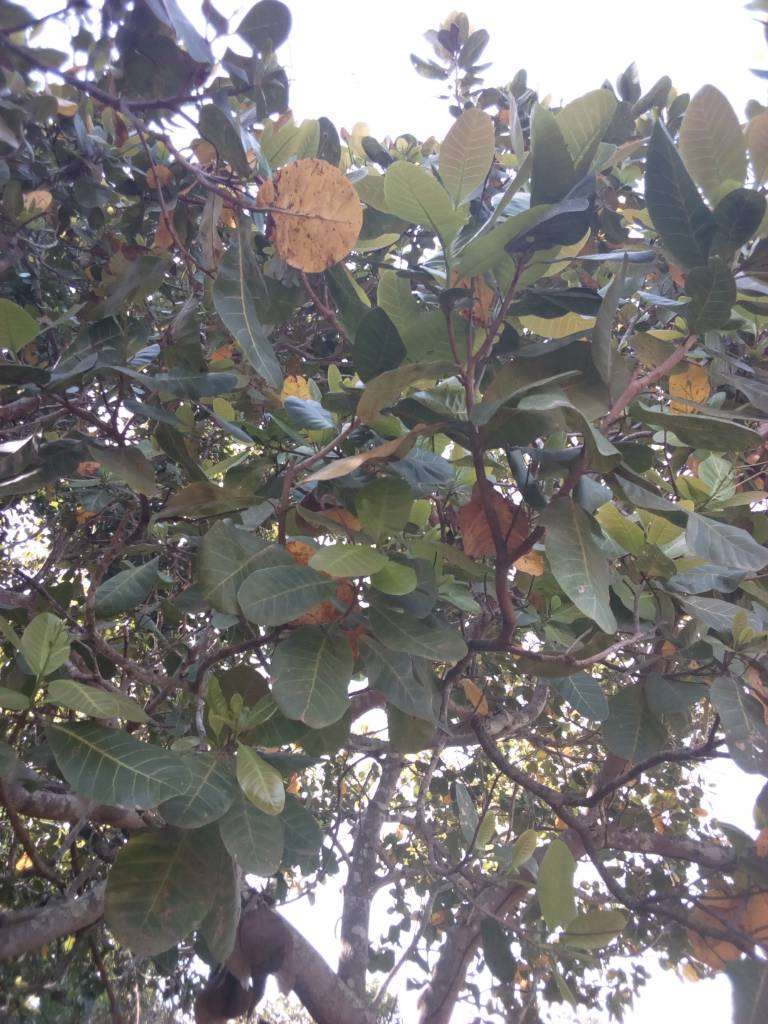Bactériose: (257, 158, 363, 274)
